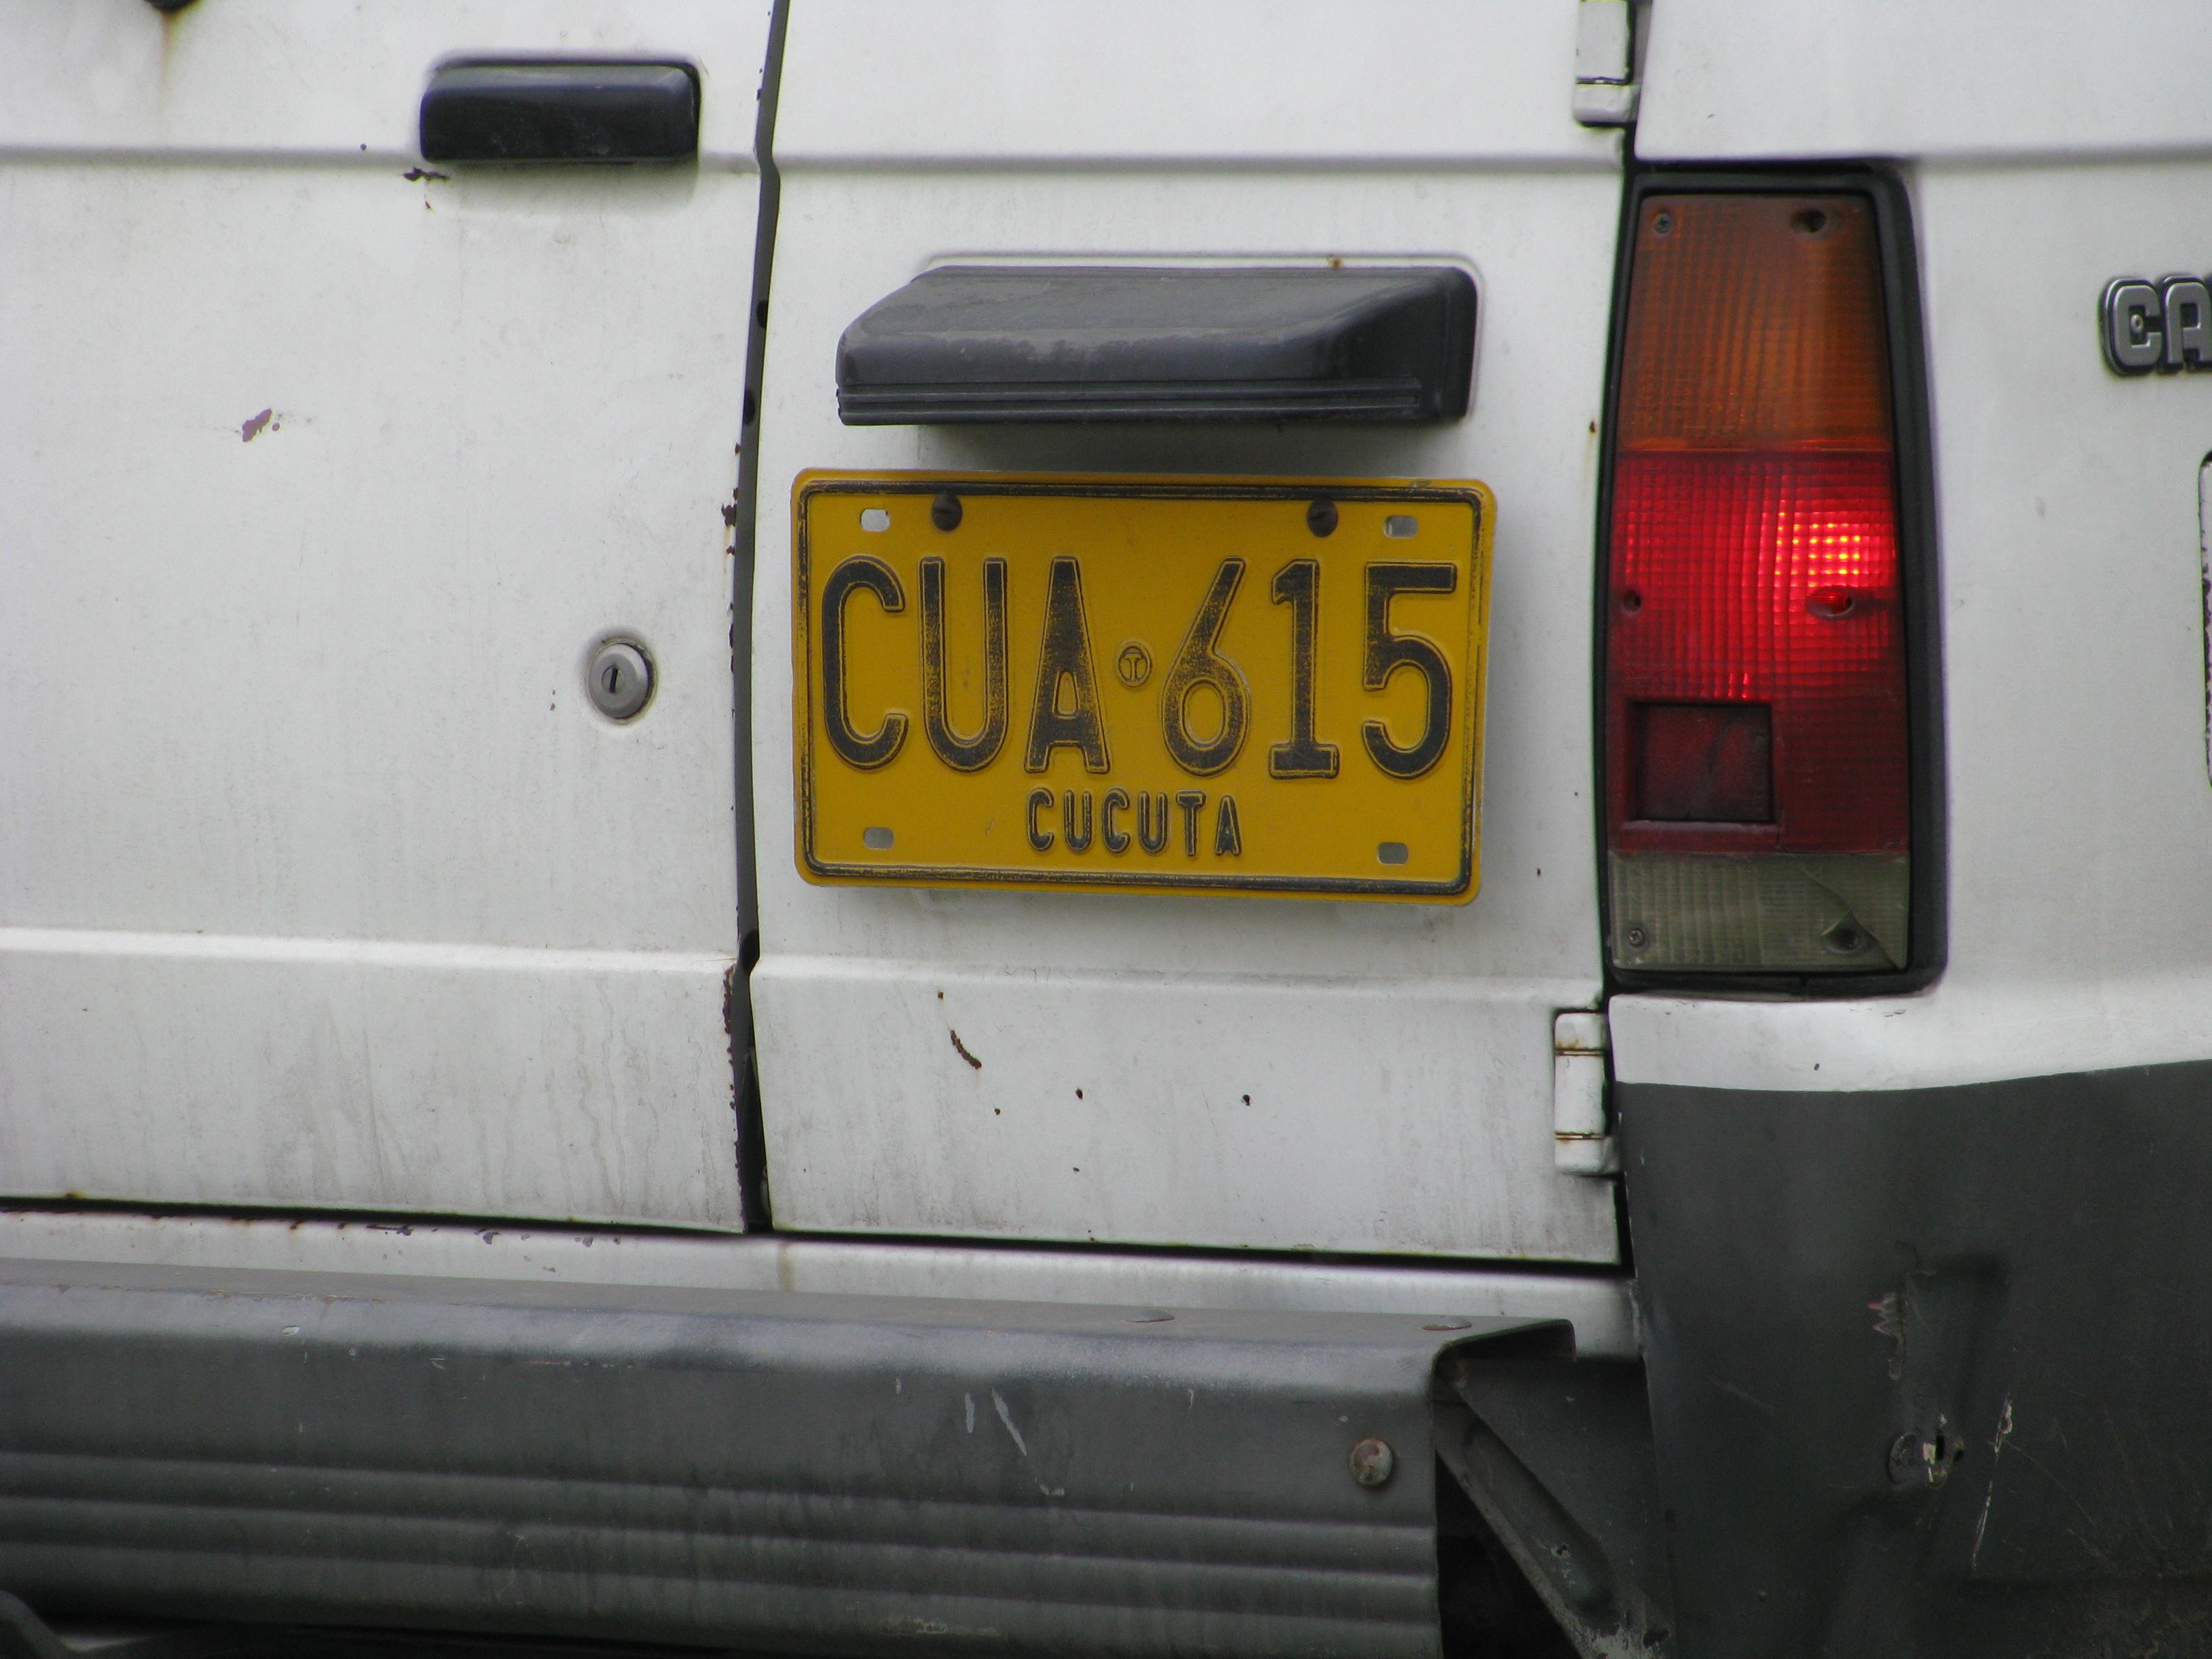placas: (778, 452, 1502, 915)
